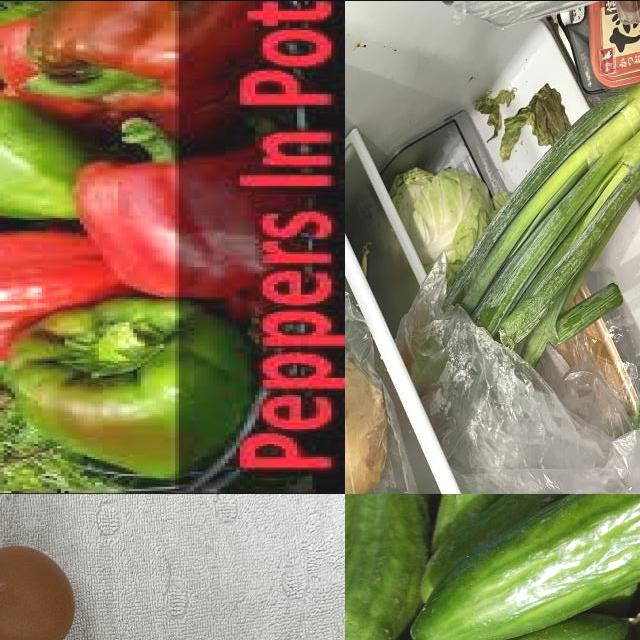bell_pepper: (1, 92, 109, 226)
cabbage: (388, 164, 494, 290)
cucumber: (400, 494, 640, 640), (445, 560, 640, 640), (346, 494, 429, 640), (346, 609, 640, 640)
egg: (1, 542, 80, 640)
onion: (411, 1, 640, 384), (346, 349, 390, 494)
